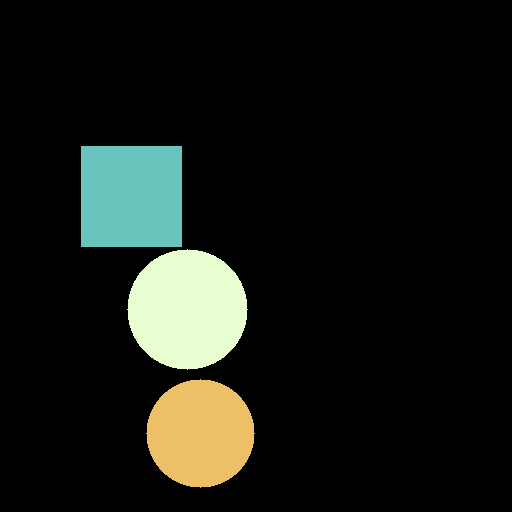circle: (127, 249, 247, 369), (146, 379, 254, 487)
square: (81, 146, 181, 246)
